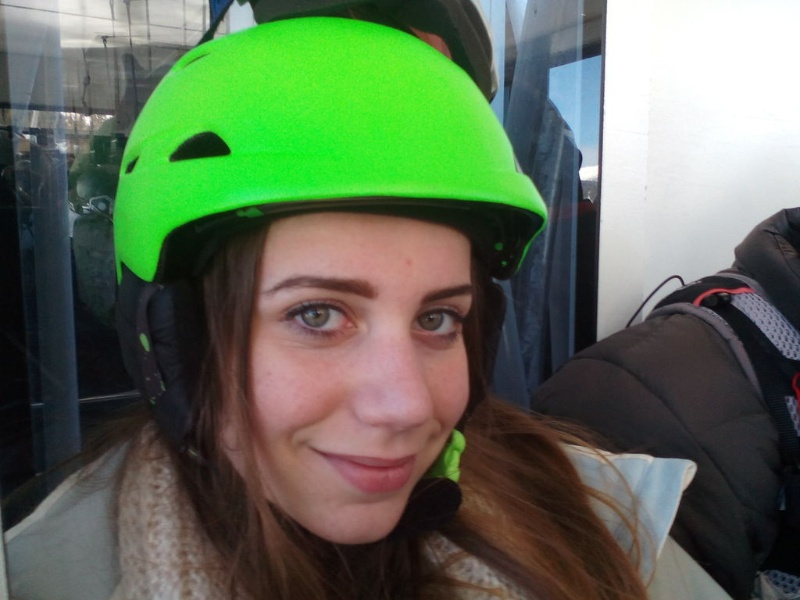Baret: (106, 15, 552, 256)
